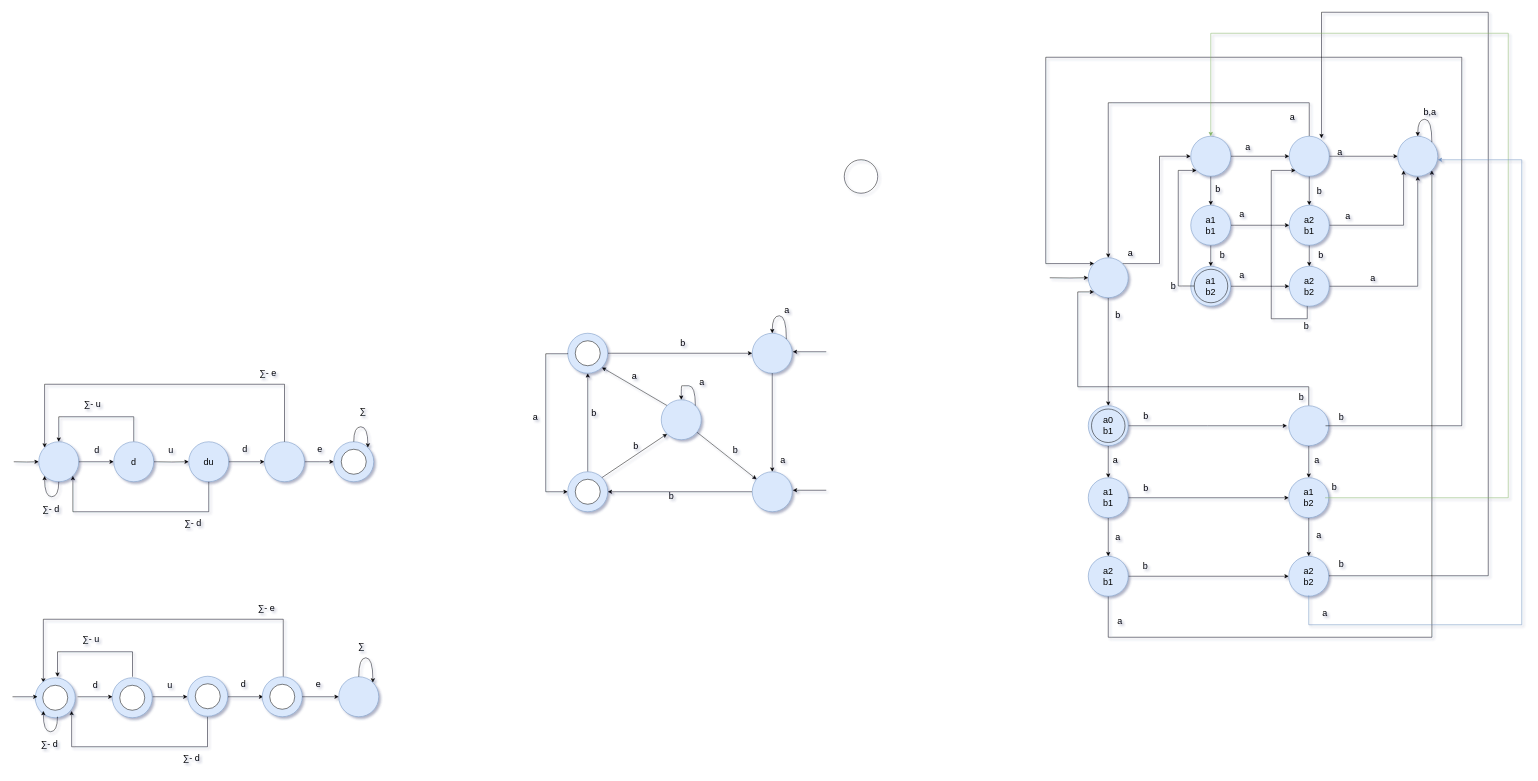
This 1538x781 diagram has some shape labels left out. Each missing label, with the centre of its shape:
a0 b0: [1108,277]
a0 b2: [1308,425]
a1 b0: [1210,156]
a2 b0: [1309,156]
a3+: [1417,156]
dud: [284,461]
